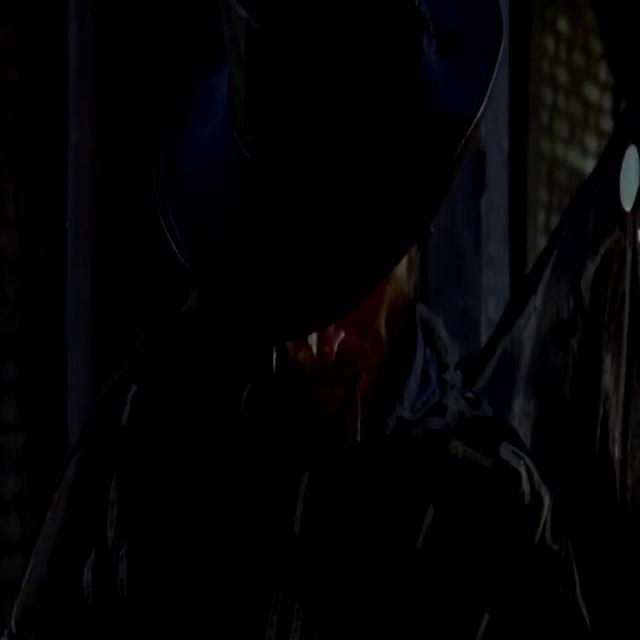Smooking: (338, 380, 374, 454)
